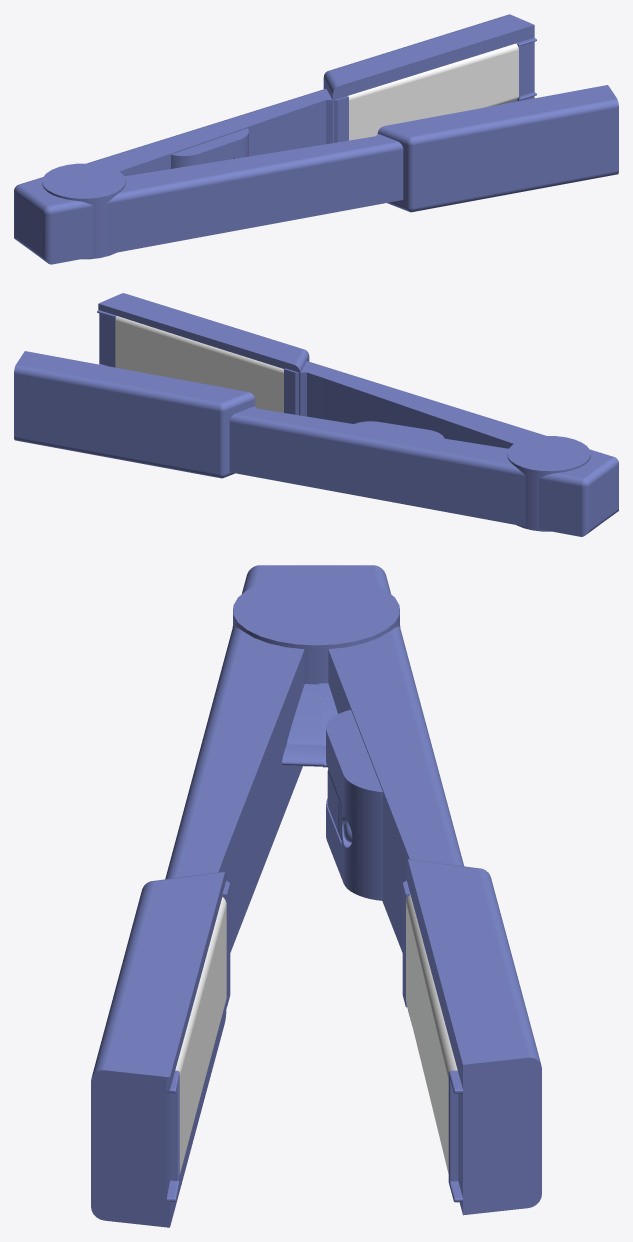
The model's file is planchita.glb.
3 views of the same model, one above another, from view 1: azimuth 30°, elevation 25°; view 2: azimuth 150°, elevation 25°; view 3: azimuth 270°, elevation 25° (orthographic). The views are drawn at different scales.
Visible parts, largest first — view 1: Cuerpo1, Cuerpo9, Cuerpo2, Cuerpo4, Cuerpo3; view 2: Cuerpo9, Cuerpo1, Cuerpo8, Cuerpo7, Cuerpo4; view 3: Cuerpo1, Cuerpo9, Cuerpo4, Cuerpo2, Cuerpo8, Cuerpo12, Cuerpo3, Cuerpo7.
Boxes of the visible parts, left/top/right/bottom form: Cuerpo1: left=29, top=85, right=618, bottom=264; Cuerpo9: left=14, top=14, right=534, bottom=249; Cuerpo2: left=348, top=43, right=518, bottom=140; Cuerpo4: left=171, top=128, right=248, bottom=168; Cuerpo3: left=516, top=37, right=536, bottom=100; Cuerpo9: left=14, top=351, right=603, bottom=536; Cuerpo1: left=98, top=293, right=618, bottom=522; Cuerpo8: left=115, top=316, right=283, bottom=412; Cuerpo7: left=97, top=310, right=116, bottom=367; Cuerpo4: left=354, top=421, right=444, bottom=438; Cuerpo1: left=91, top=565, right=316, bottom=1227; Cuerpo9: left=316, top=565, right=541, bottom=1215; Cuerpo4: left=326, top=709, right=382, bottom=900; Cuerpo2: left=406, top=894, right=457, bottom=1173; Cuerpo8: left=175, top=897, right=226, bottom=1174; Cuerpo12: left=282, top=684, right=325, bottom=766; Cuerpo3: left=448, top=1070, right=462, bottom=1202; Cuerpo7: left=166, top=1070, right=179, bottom=1201.
Bounding box in the file's own units: 0.2719 × 0.039 × 0.0978.
